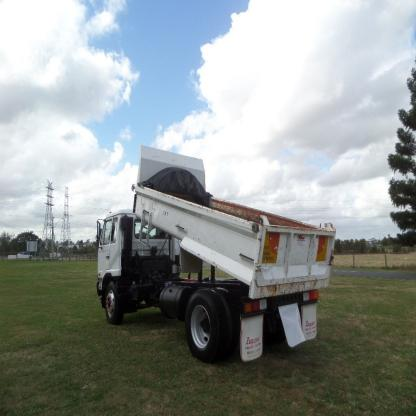dump_truck: (88, 126, 336, 374)
